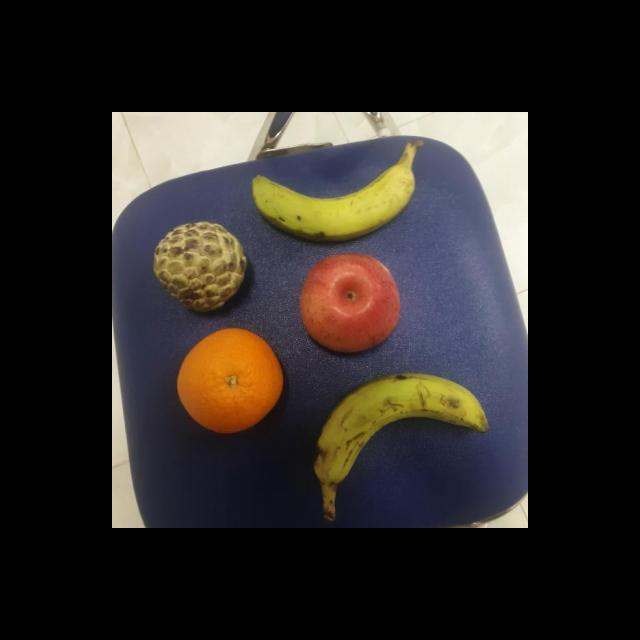Sakya fruit: (150, 219, 250, 313)
apple: (301, 251, 404, 356)
banana: (312, 370, 490, 488), (252, 161, 420, 245)
orange: (174, 327, 288, 435)
